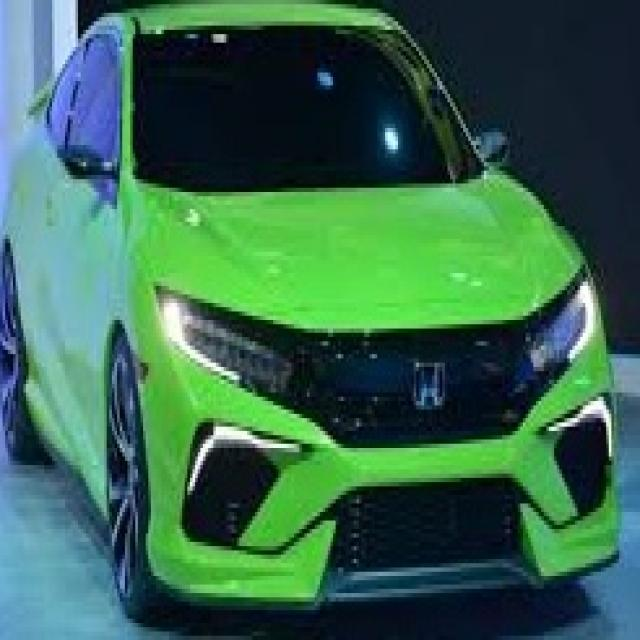green: (5, 1, 621, 628)
